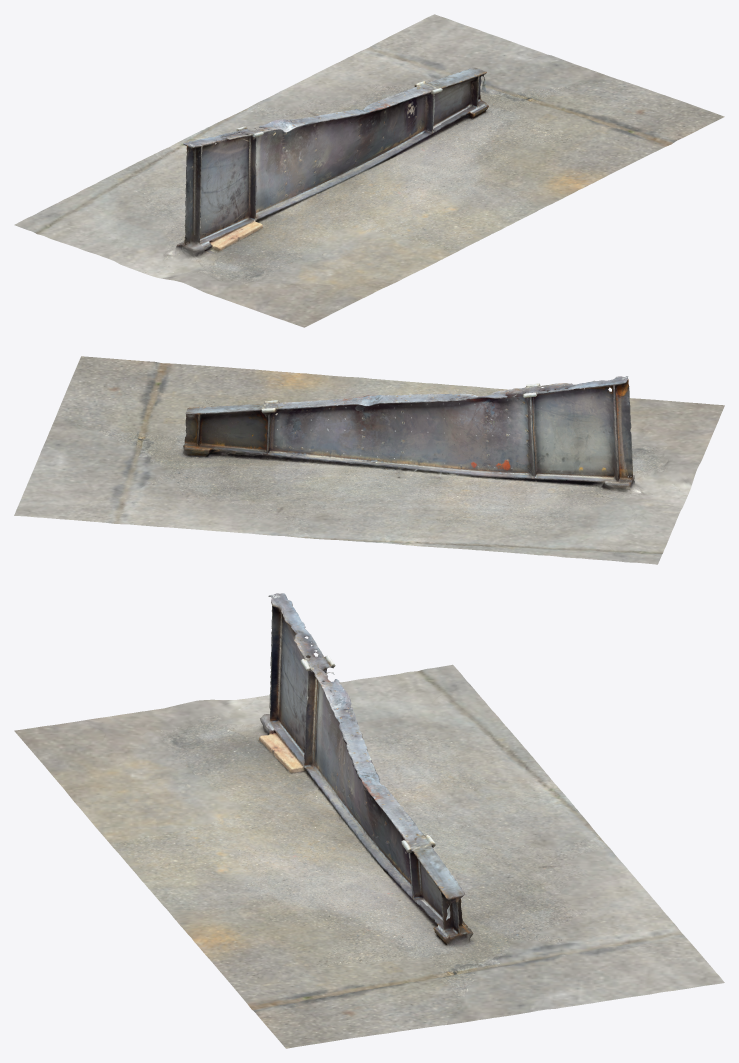
3 renders of one model, top to bottom at view 1: azimuth 30°, elevation 25°; view 2: azimuth 150°, elevation 25°; view 3: azimuth 270°, elevation 25°, orthographic. The views are drawn at different scales.
Bounding box in the file's own units: 4.1 × 0.6687 × 3.2.
1 material, 1 textured.
